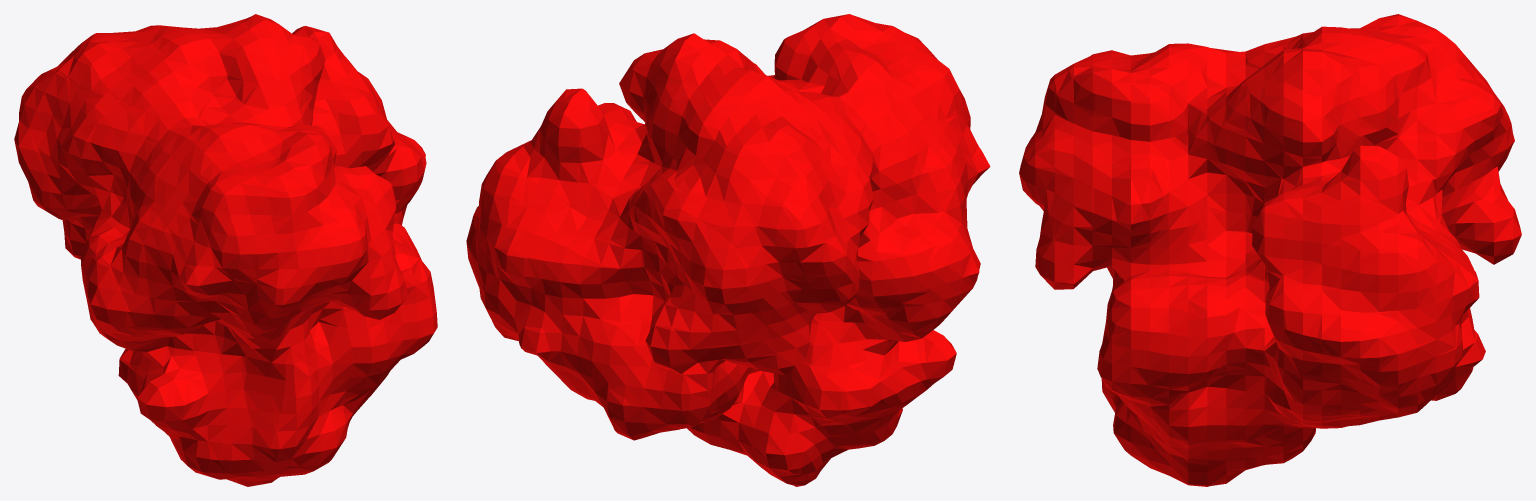
The model's file is rfbA_coarse.dae.
3 renders of one model, left to right at view 1: azimuth 30°, elevation 25°; view 2: azimuth 150°, elevation 25°; view 3: azimuth 270°, elevation 25°, orthographic. The views are drawn at different scales.
Visible parts, largest first — view 1: rfbA; view 2: rfbA; view 3: rfbA.
Part boxes in pixels (x1,y1,x2,y2): rfbA: [14, 14, 437, 486]; rfbA: [466, 14, 990, 486]; rfbA: [1019, 14, 1521, 486].
Bounding box in the file's own units: 88.61 × 90.72 × 90.67.
